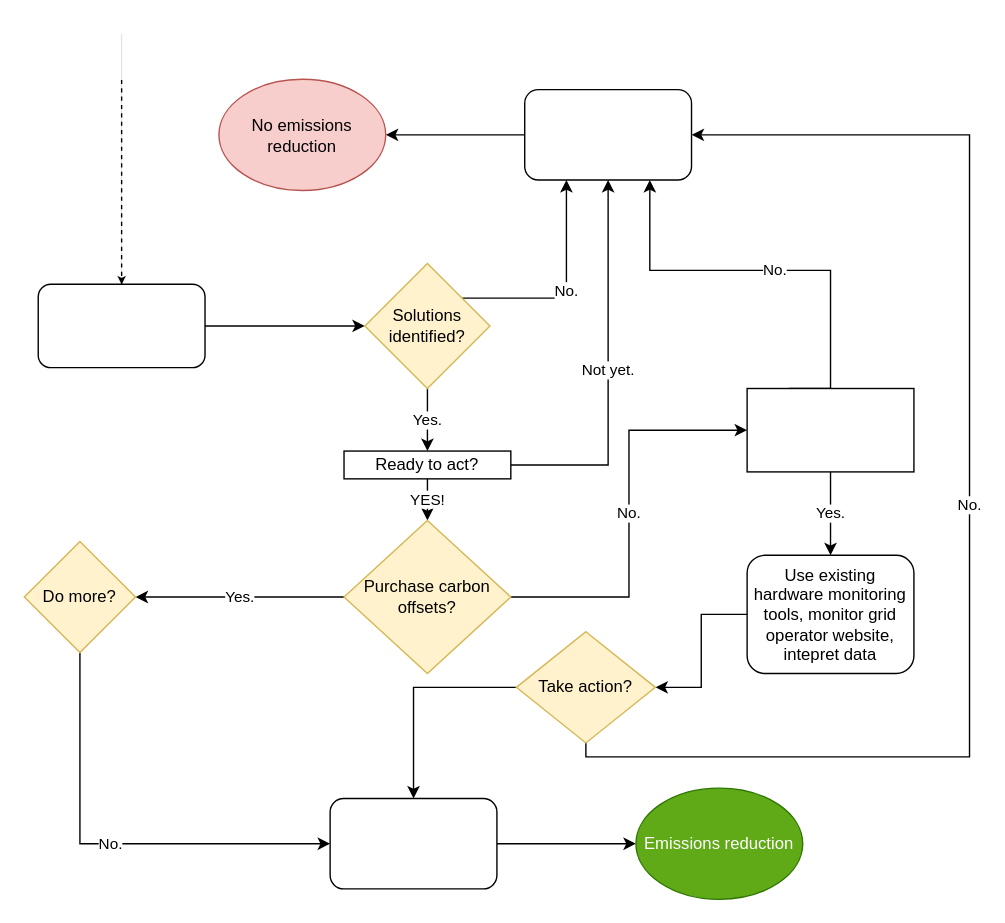
Some shapes in this 1005 by 923 pixel diagram are drawn without their labels. The shapes that lost their labels are listed below. From the top down, each one's centre as x and y in pixels, then its label:
At pixel 607 134: "Uses computer, business as usual".
At pixel 121 325: "Conduct independent research".
At pixel 830 429: "Willing to proactively monitor power draw and reduce demand?".
At pixel 413 843: "Uses computer more sustainably".
